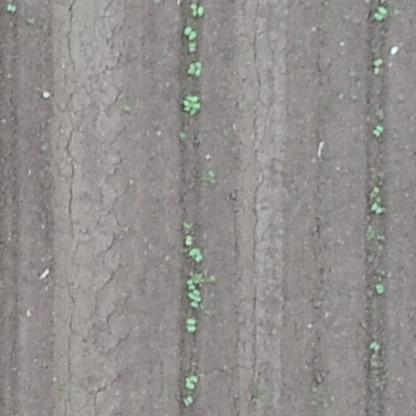vc: (183, 277, 206, 311), (182, 92, 200, 115), (372, 280, 388, 302), (371, 3, 389, 22), (188, 247, 207, 264), (187, 59, 204, 77), (371, 200, 387, 219), (182, 370, 197, 390), (188, 2, 205, 19), (372, 53, 388, 71), (371, 123, 388, 139), (185, 316, 198, 336), (183, 24, 196, 39), (369, 337, 381, 353), (185, 41, 199, 54), (182, 230, 195, 244), (181, 394, 195, 406)
